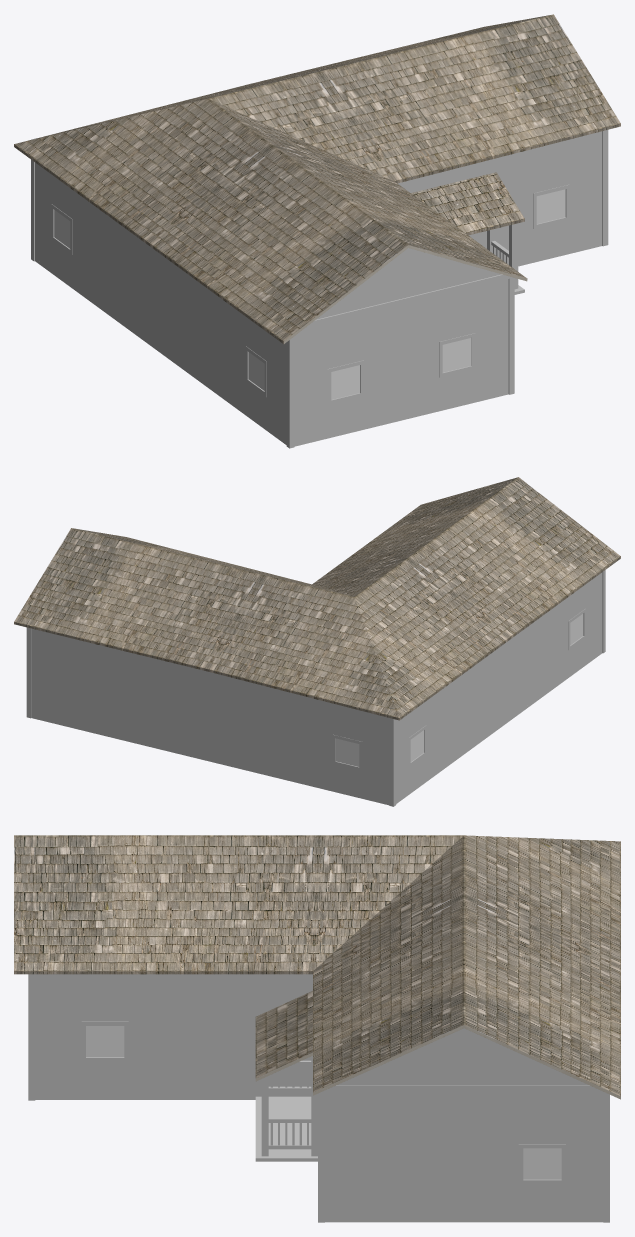
Rendered from FarmHause01.fbx.
3 views of the same model, one above another, from view 1: azimuth 30°, elevation 25°; view 2: azimuth 150°, elevation 25°; view 3: azimuth 270°, elevation 25° (orthographic). The views are drawn at different scales.
Visible parts, largest first — view 1: FermHaus.002, FermHaus.001, FermHaus.004, FermHaus, steklo.005, steklo, steklo.004; view 2: FermHaus.002, FermHaus.001, FermHaus, steklo.003; view 3: FermHaus.002, FermHaus.001, FermHaus.004, FermHaus, steklo.001, steklo.007.
Boxes of the visible parts, box(x1,y1,x2,y2) form: FermHaus.002: box(14, 14, 620, 344); FermHaus.001: box(31, 130, 608, 448); FermHaus.004: box(411, 172, 524, 294); FermHaus: box(35, 243, 602, 446); steklo.005: box(442, 338, 471, 372); steklo: box(536, 189, 565, 223); steklo.004: box(331, 365, 359, 399); FermHaus.002: box(14, 477, 620, 720); FermHaus.001: box(26, 570, 605, 806); FermHaus: box(31, 651, 602, 805); steklo.003: box(335, 738, 359, 766); FermHaus.002: box(14, 835, 620, 1099); FermHaus.001: box(28, 842, 609, 1222); FermHaus.004: box(255, 991, 317, 1161); FermHaus: box(35, 1096, 603, 1222); steklo.001: box(523, 1148, 561, 1179); steklo.007: box(86, 1026, 124, 1057).
Size of the model in its own units: 1687 by 620 by 1677.
